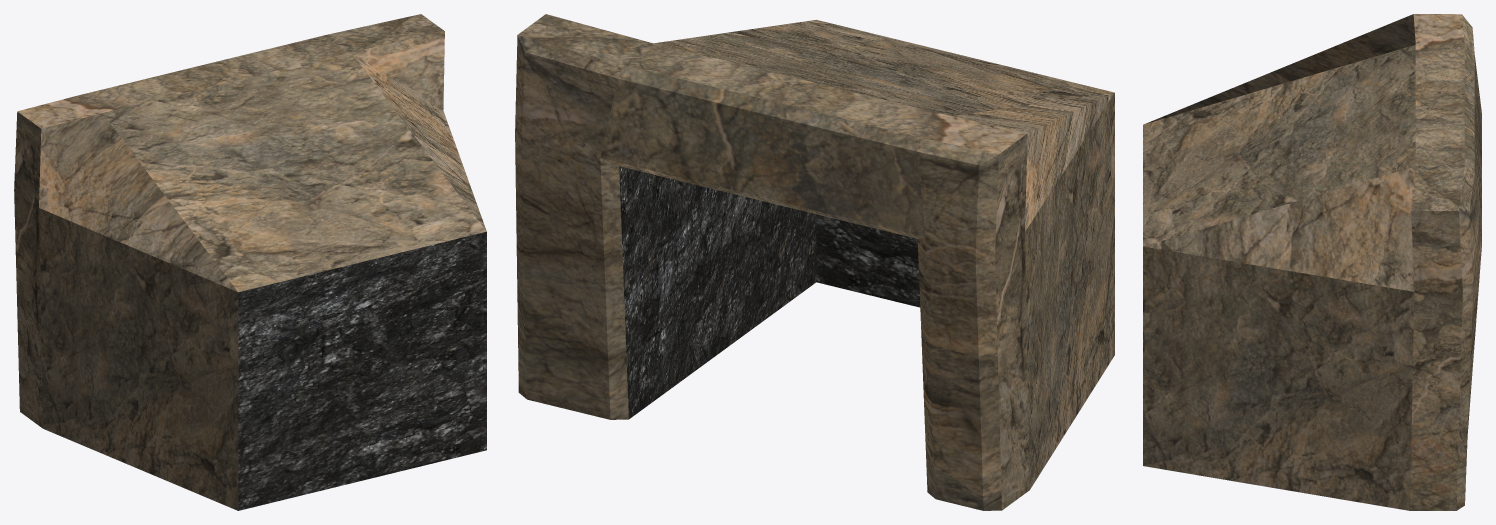
File: lareira.fbx
The picture shows the model from 3 angles, left to right: view 1: azimuth 30°, elevation 25°; view 2: azimuth 150°, elevation 25°; view 3: azimuth 270°, elevation 25°; orthographic projection. The views are drawn at different scales.
Parts seen in each view (by area): view 1: Cube.002; view 2: Cube.002; view 3: Cube.002.
Part boxes in pixels (box(x1,y1,x2,y2)): Cube.002: box(14, 14, 486, 510); Cube.002: box(515, 14, 1114, 510); Cube.002: box(1143, 14, 1481, 510).
Bounding box in the file's own units: 425 × 302 × 309.
